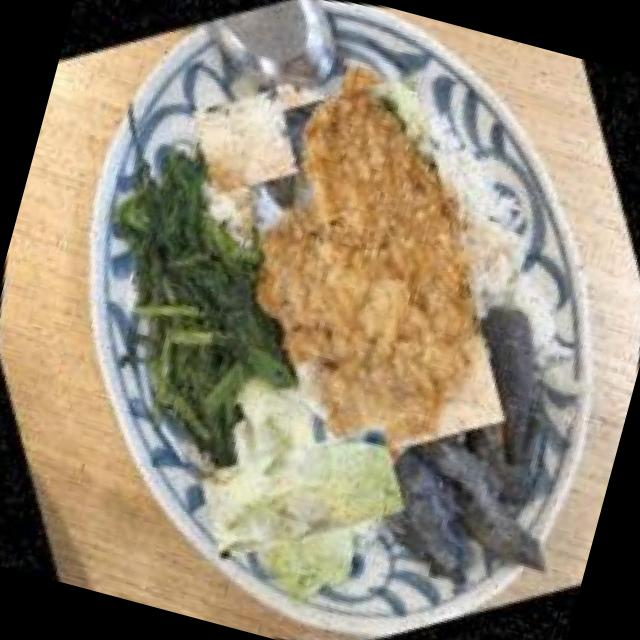chinese_cabbage: (174, 365, 426, 616)
fried_chicken: (132, 10, 598, 532)
rice: (166, 63, 324, 218)
water_spinach: (26, 100, 339, 464)
